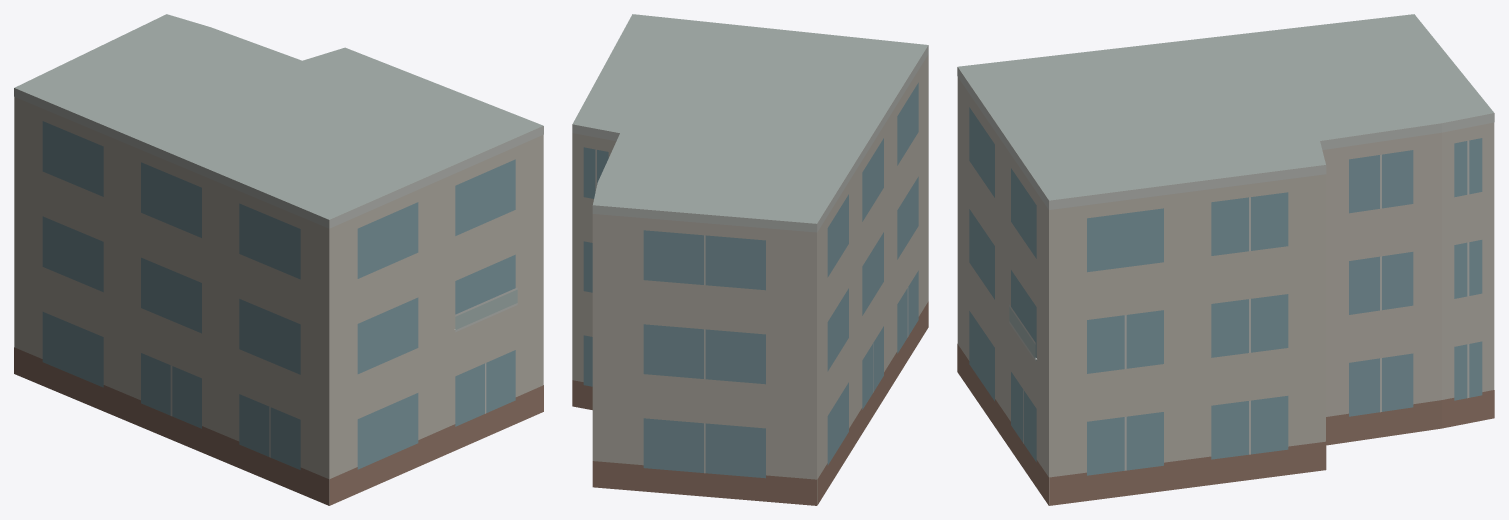
Rendered from survey-upis-33031057.glb.
3 renders of one model, left to right at view 1: azimuth 30°, elevation 25°; view 2: azimuth 150°, elevation 25°; view 3: azimuth 270°, elevation 25°, orthographic. The views are drawn at different scales.
Visible parts, largest first — view 1: survey-upis-33031057.tmp; view 2: survey-upis-33031057.tmp; view 3: survey-upis-33031057.tmp.
Part boxes in pixels (left/top/right/bottom): survey-upis-33031057.tmp: left=14, top=14, right=543, bottom=505; survey-upis-33031057.tmp: left=572, top=14, right=928, bottom=505; survey-upis-33031057.tmp: left=957, top=14, right=1494, bottom=505.
Size of the model in its own units: 10.37 by 7.9 by 12.61.
